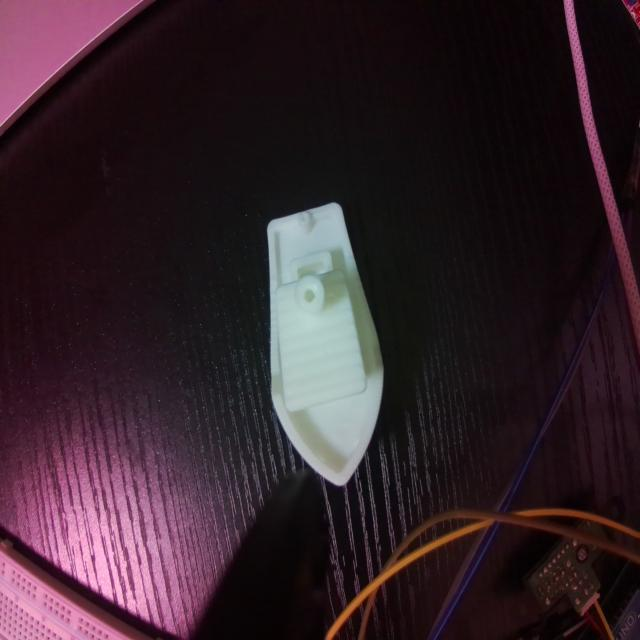ship: (266, 200, 385, 486)
